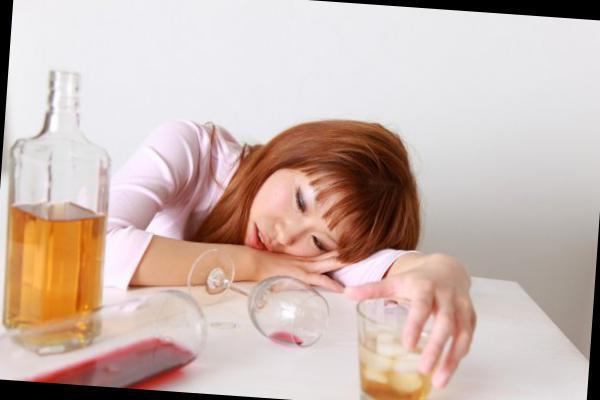Drunk: (250, 169, 352, 261)
